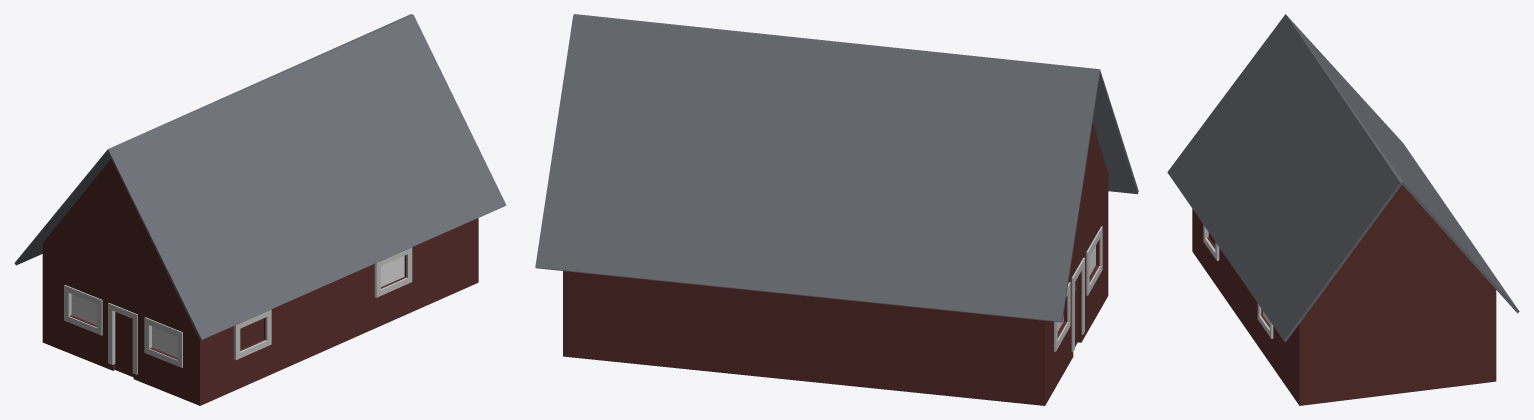
The model's file is casa.fbx.
3 views of the same model, side by side, from view 1: azimuth 30°, elevation 25°; view 2: azimuth 150°, elevation 25°; view 3: azimuth 270°, elevation 25° (orthographic). The views are drawn at different scales.
Visible parts, largest first — view 1: telhado, casa, Barn_Cube.006, Barn_Cube.004, Barn_Cube.003, Barn_Cube.001, Barn_Cube.002; view 2: telhado, casa, Barn_Cube.006, Barn_Cube.003; view 3: telhado, casa.
Part boxes in pixels (x1=…): telhado: x1=14, y1=14, x2=506, y2=340; casa: x1=42, y1=159, x2=478, y2=405; Barn_Cube.006: x1=108, y1=303, x2=137, y2=374; Barn_Cube.004: x1=64, y1=285, x2=102, y2=335; Barn_Cube.003: x1=144, y1=317, x2=182, y2=367; Barn_Cube.001: x1=234, y1=309, x2=271, y2=360; Barn_Cube.002: x1=374, y1=247, x2=412, y2=297; telhado: x1=535, y1=14, x2=1138, y2=322; casa: x1=563, y1=123, x2=1108, y2=405; Barn_Cube.006: x1=1071, y1=257, x2=1084, y2=351; Barn_Cube.003: x1=1086, y1=226, x2=1102, y2=295; telhado: x1=1167, y1=14, x2=1519, y2=341; casa: x1=1192, y1=185, x2=1496, y2=405.
Bounding box in the file's own units: 485 × 250 × 366.
